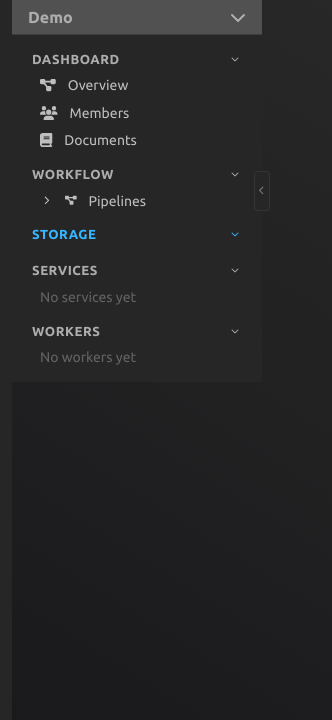
LateralMenu — Workers › goes to the Workers page from its title
This screenshot has width=332, height=720.
Click the text "Workers": (66, 331) [32,324,100,338]
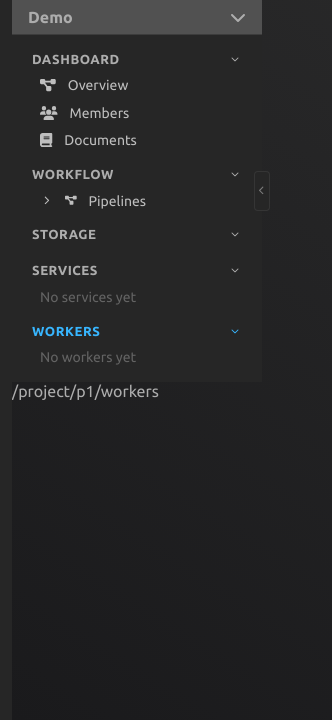
Expected: the text with test id "location" reads "/project/p1/workers", [12,382,159,400]
